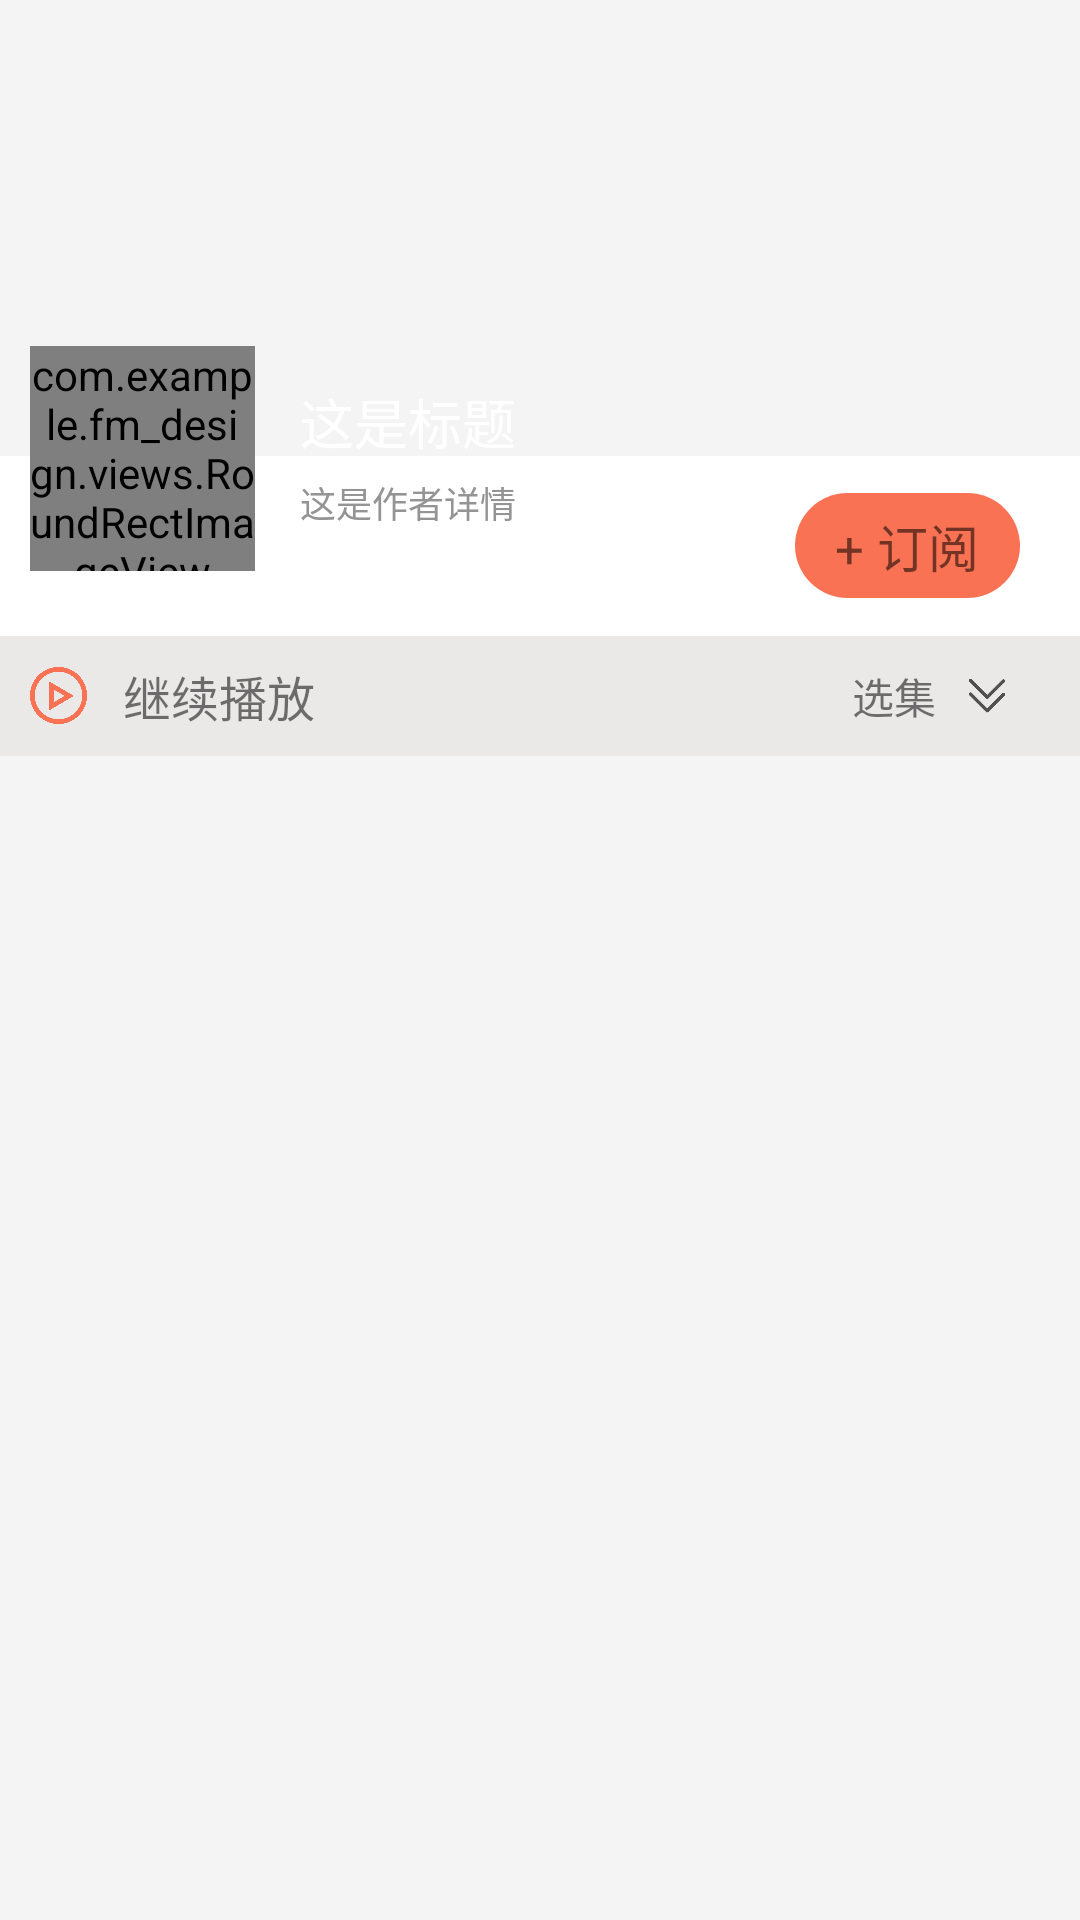

Where icons sit on this 1080 × 1920 app screen, as region(x1, y1, x2, y2):
arrow: region(969, 679, 1005, 713)
